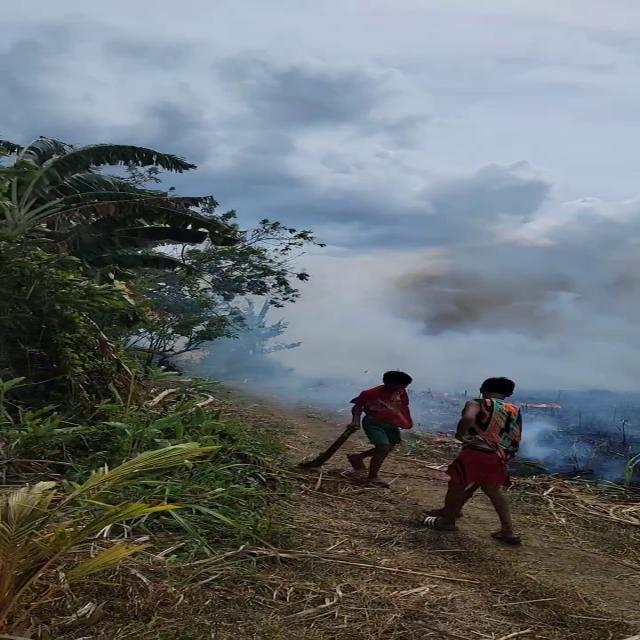Smoke: (175, 192, 638, 423)
